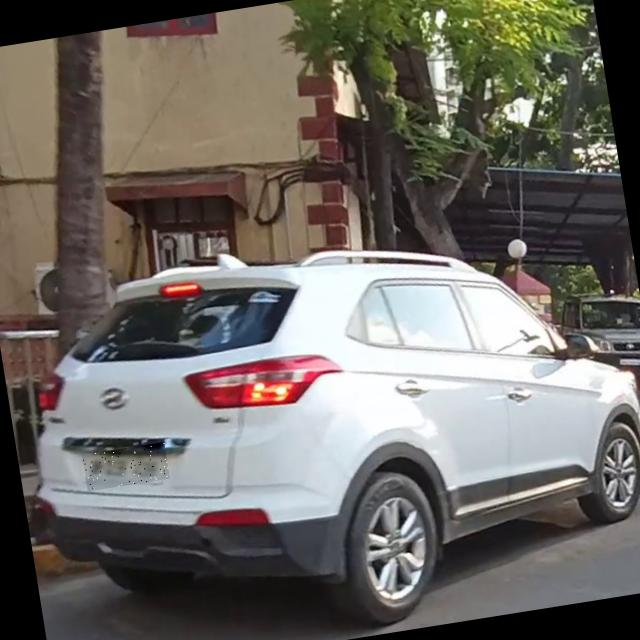Plate: (83, 443, 171, 493)
